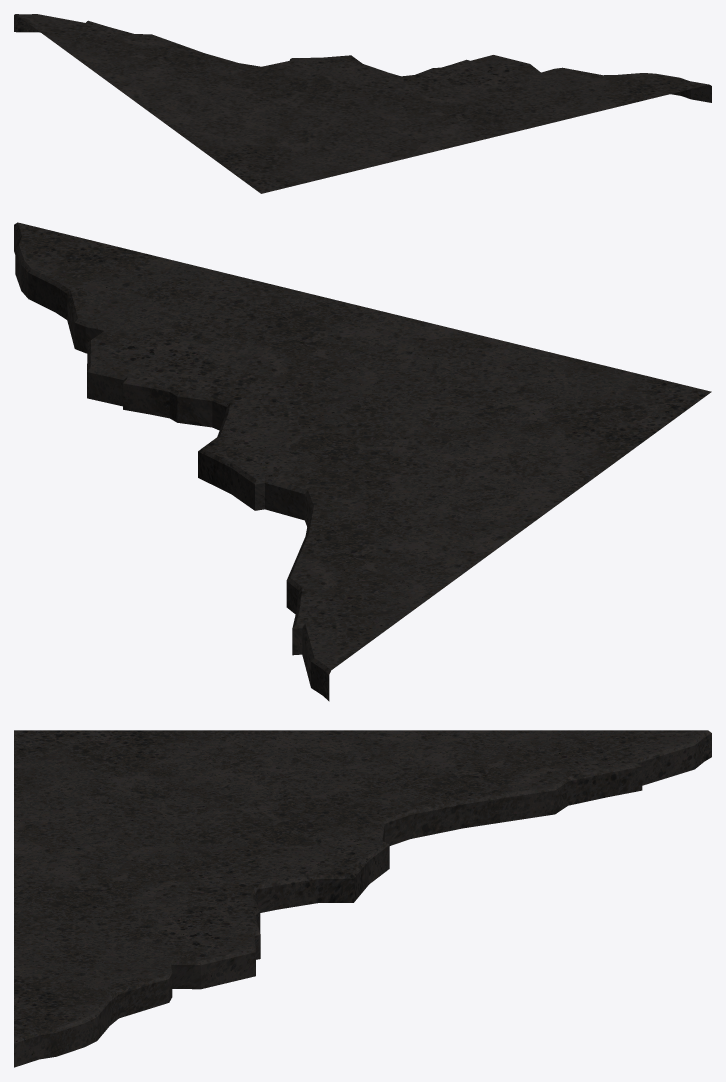
The model's file is FloorDmgCorner01.fbx.
3 views of the same model, one above another, from view 1: azimuth 30°, elevation 25°; view 2: azimuth 150°, elevation 25°; view 3: azimuth 270°, elevation 25° (orthographic). The views are drawn at different scales.
Visible parts, largest first — view 1: SM_ENV_NATURE_Cave_Floor_Dmg_Corner_01.mo; view 2: SM_ENV_NATURE_Cave_Floor_Dmg_Corner_01.mo; view 3: SM_ENV_NATURE_Cave_Floor_Dmg_Corner_01.mo.
Part boxes in pixels (left/top/right/bottom): SM_ENV_NATURE_Cave_Floor_Dmg_Corner_01.mo: left=14, top=14, right=711, bottom=193; SM_ENV_NATURE_Cave_Floor_Dmg_Corner_01.mo: left=14, top=222, right=711, bottom=701; SM_ENV_NATURE_Cave_Floor_Dmg_Corner_01.mo: left=14, top=730, right=711, bottom=1067.
Size of the model in its own units: 742 by 30 by 705.
1 material, 1 textured.
